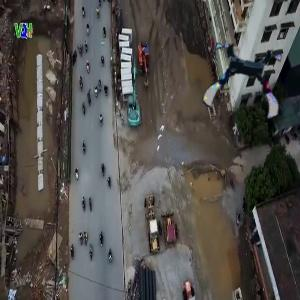drone: (207, 42, 288, 123)
